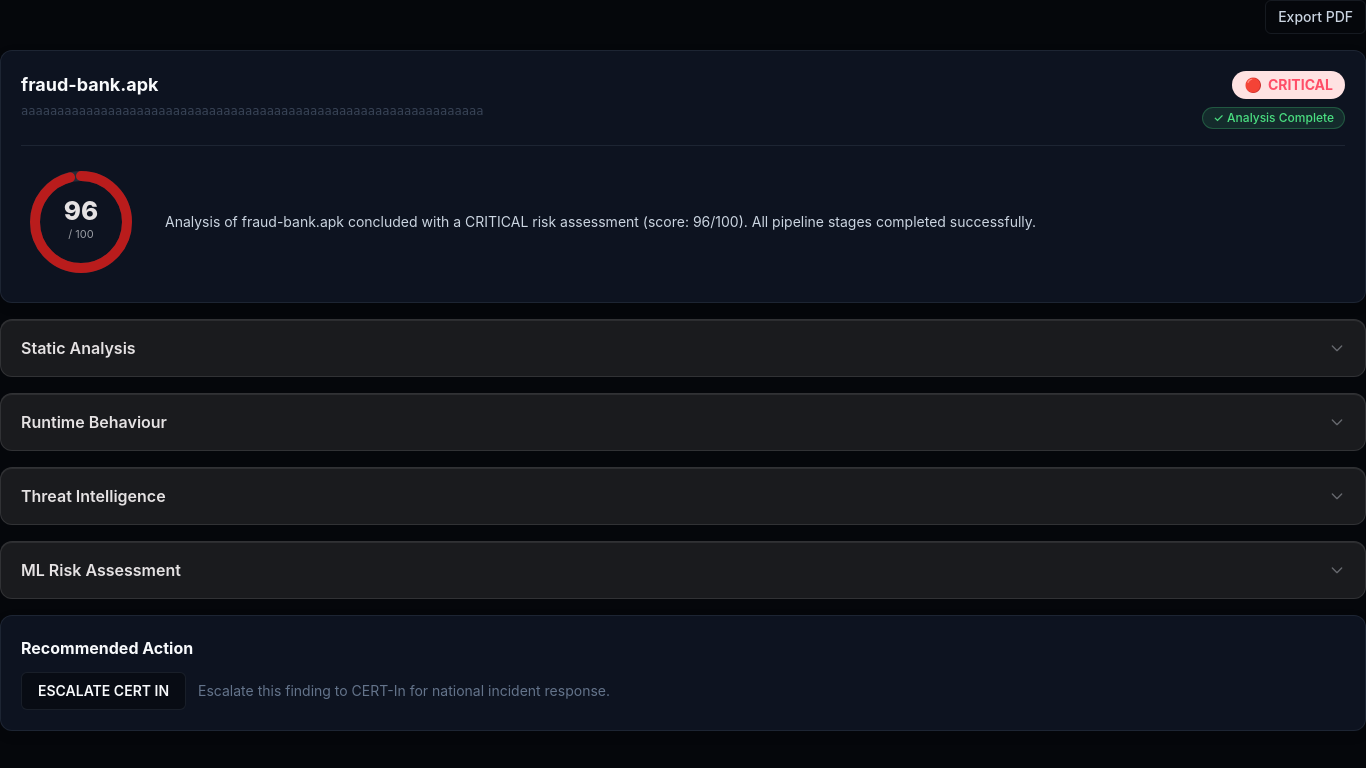
Test: ReportViewer › shows ML scoring unavailable when mlScore is null
Step 1. Click the button "ML Risk Assessment" → (101, 570), box [1,542,1365,598]
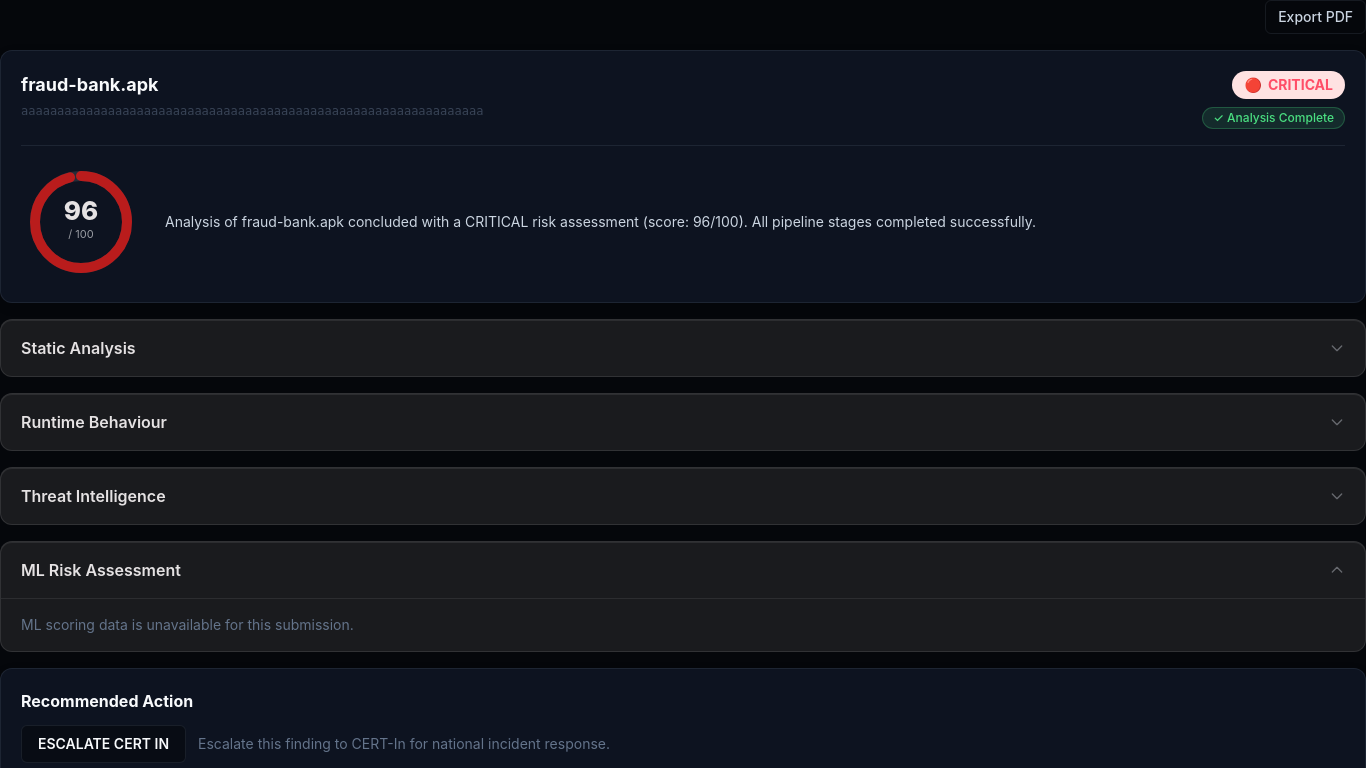
Check: the text "ML scoring data is unavailable for this submission." is shown, box [21,616,354,633]
